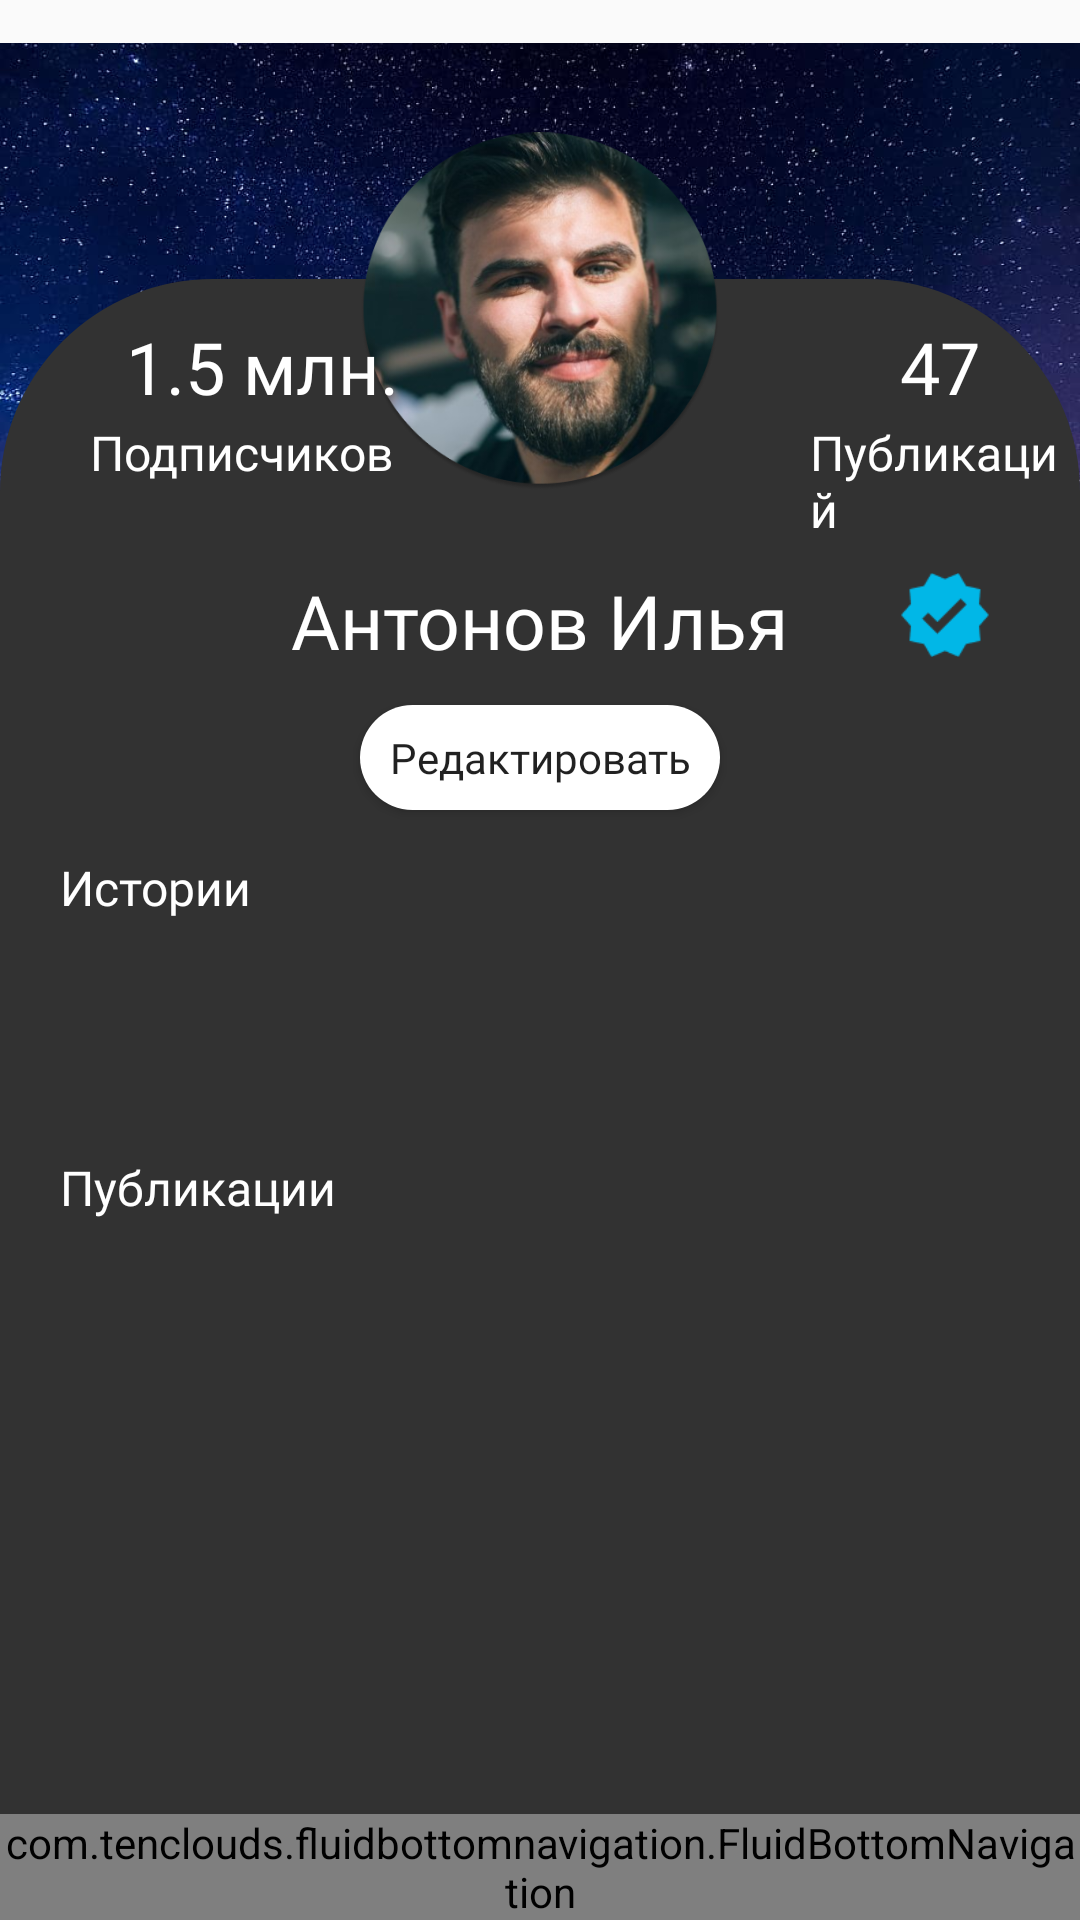

Where to tap for icons on this 1080×1920 app screen, as (x=x, y=y):
man: (x=540, y=312)
ver: (x=945, y=615)
